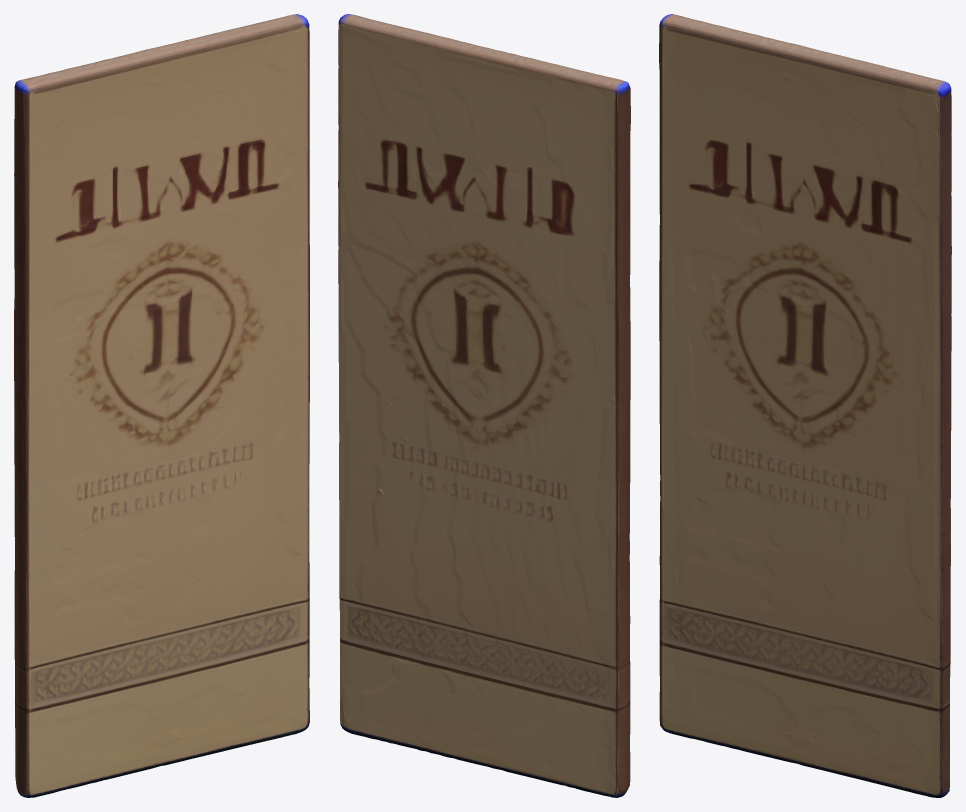
The picture shows the model from 3 angles, left to right: view 1: azimuth 30°, elevation 25°; view 2: azimuth 150°, elevation 25°; view 3: azimuth 330°, elevation 25°; orthographic projection.
Parts seen in each view (by area): view 1: world; view 2: world; view 3: world.
Boxes of the visible parts, box(x1,y1,x2,y2) form: world: box(14, 14, 309, 797); world: box(338, 14, 630, 797); world: box(659, 14, 951, 797).
Bounding box in the file's own units: 0.4221 × 1 × 0.0321.
1 material, 1 textured.
